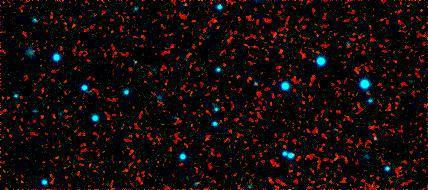star: (353, 78, 383, 108)
